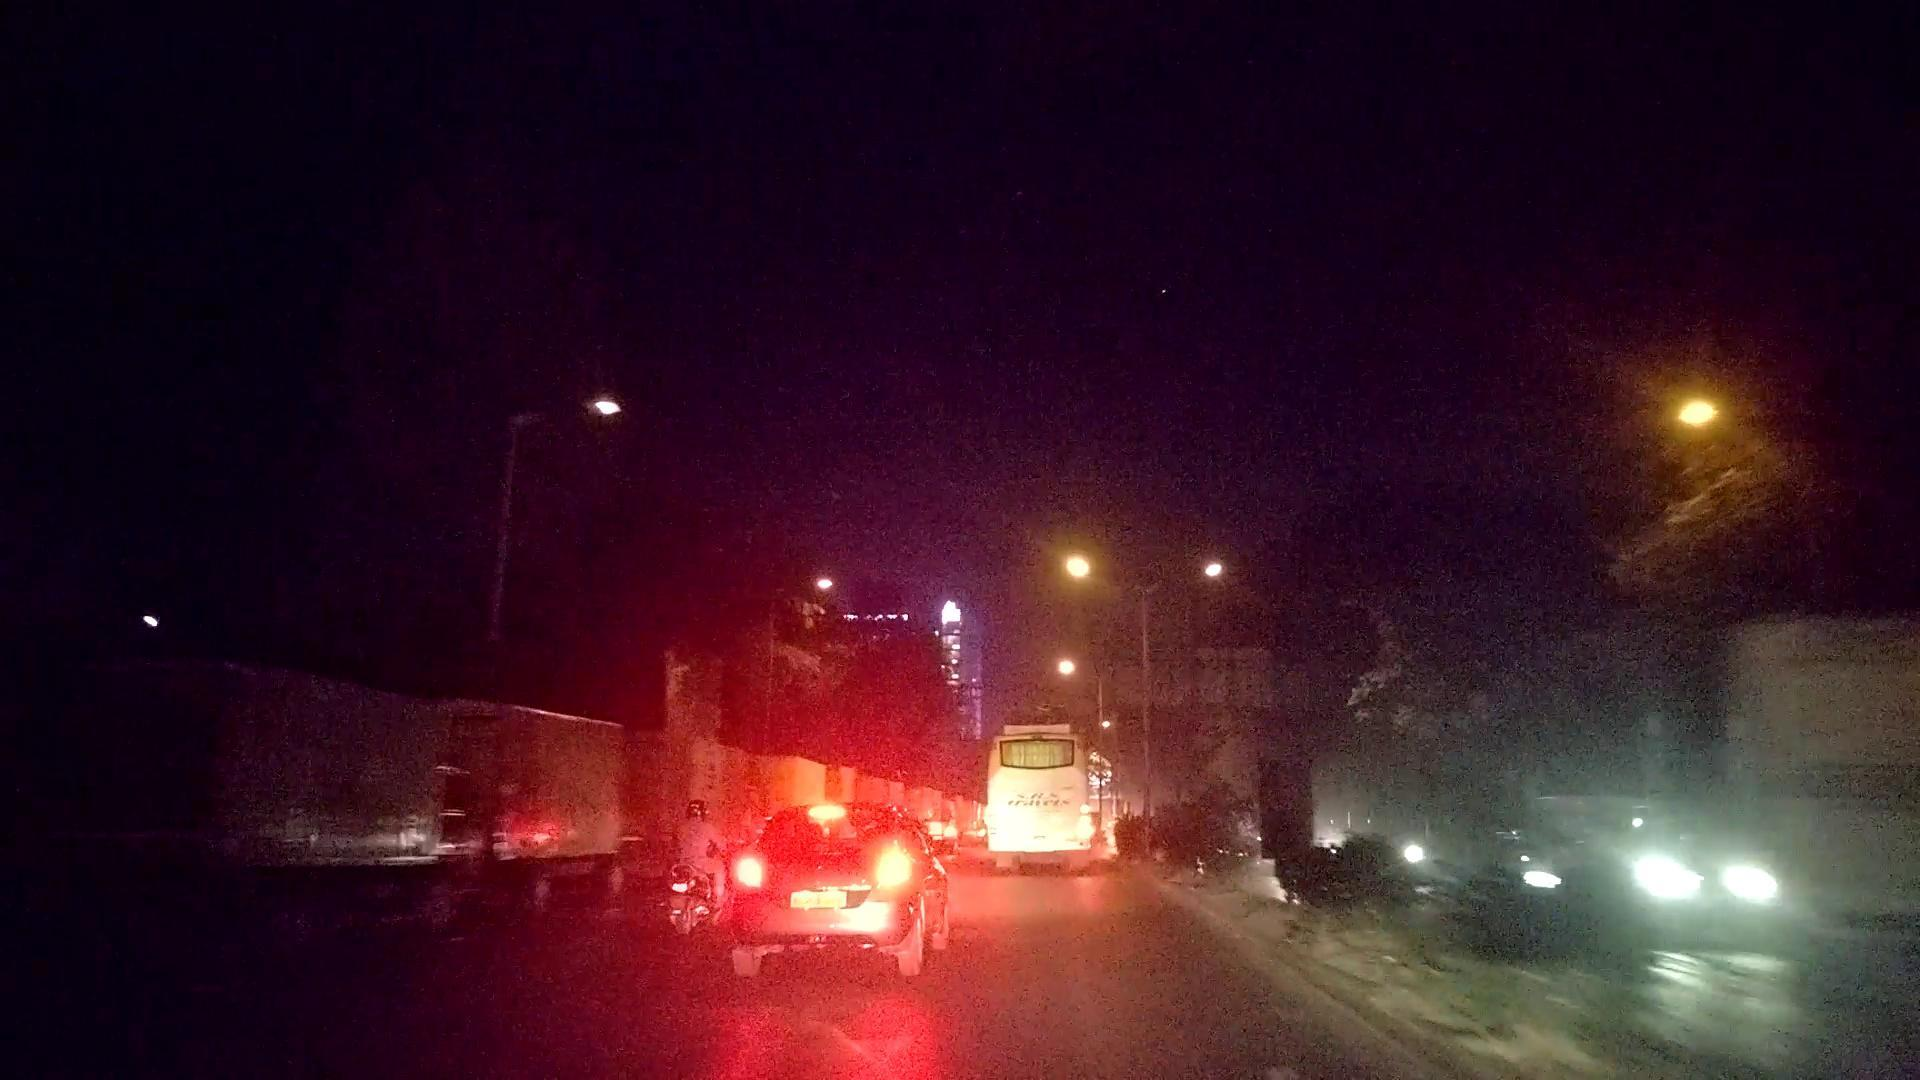on: (1640, 322, 1799, 547)
